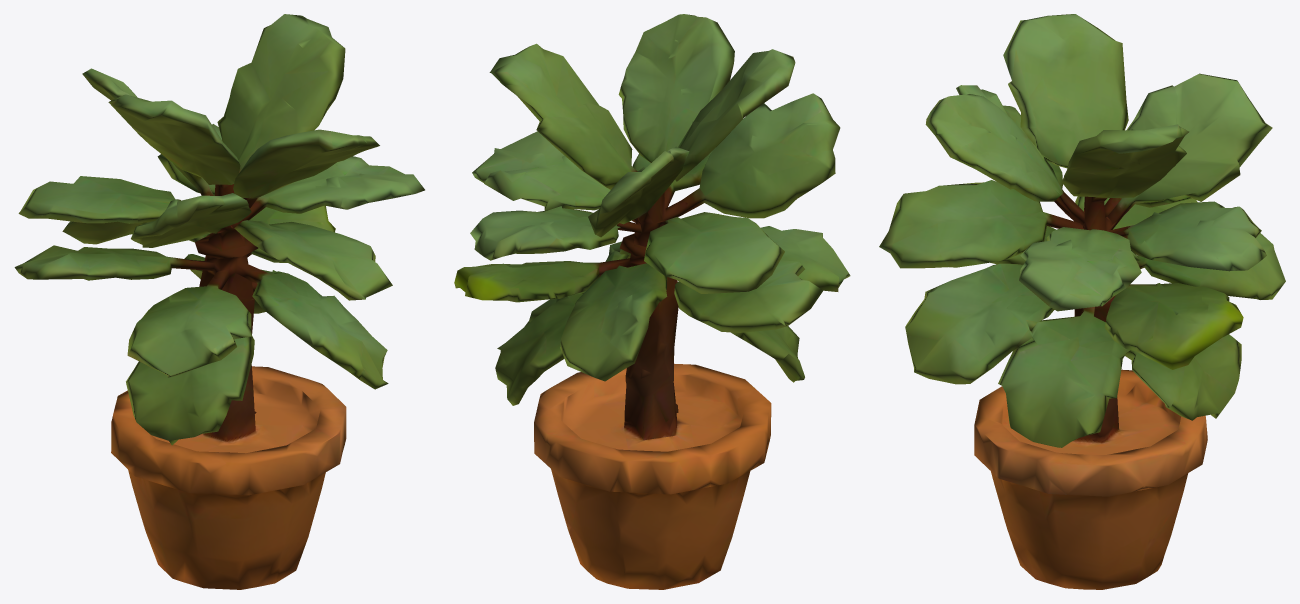
Rendered from plant.glb.
3 views of the same model, side by side, from view 1: azimuth 30°, elevation 25°; view 2: azimuth 150°, elevation 25°; view 3: azimuth 270°, elevation 25° (orthographic). The views are drawn at different scales.
Parts seen in each view (by area): view 1: tripo_node_be33c1c1-9745-4a77-967f-c86877becd0d; view 2: tripo_node_be33c1c1-9745-4a77-967f-c86877becd0d; view 3: tripo_node_be33c1c1-9745-4a77-967f-c86877becd0d.
Boxes of the visible parts, box(x1,y1,x2,y2) form: tripo_node_be33c1c1-9745-4a77-967f-c86877becd0d: box(14, 14, 424, 589); tripo_node_be33c1c1-9745-4a77-967f-c86877becd0d: box(454, 14, 850, 589); tripo_node_be33c1c1-9745-4a77-967f-c86877becd0d: box(879, 14, 1285, 589).
Bounding box in the file's own units: 0.7407 × 1 × 0.7409.
Materials: 1 (1 with a texture image).
